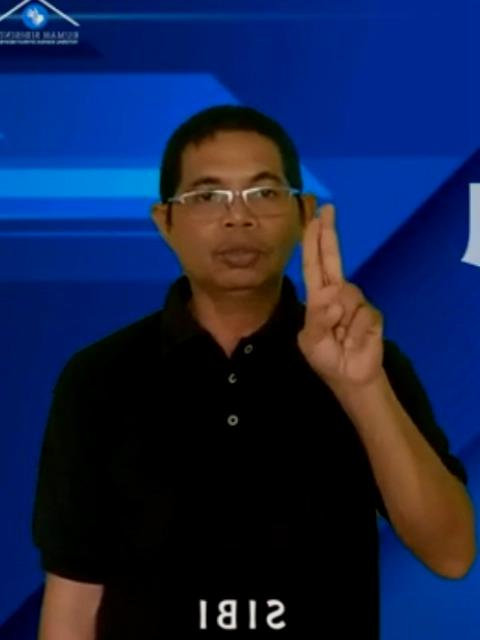U: (290, 196, 388, 384)
